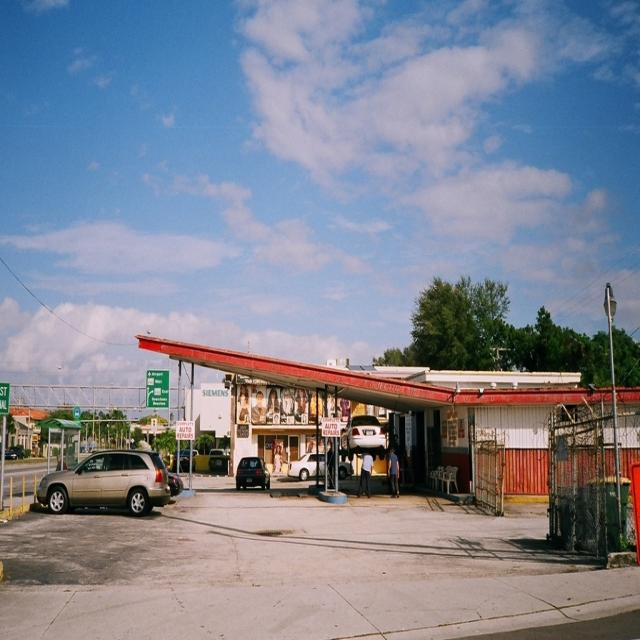car: (36, 450, 171, 523), (341, 415, 386, 444), (233, 454, 269, 490), (287, 453, 324, 482), (207, 444, 225, 478)
